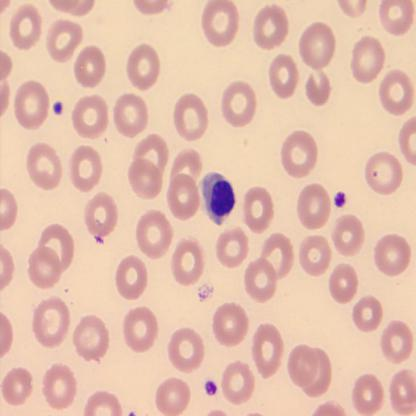NRC: (198, 169, 236, 226)
